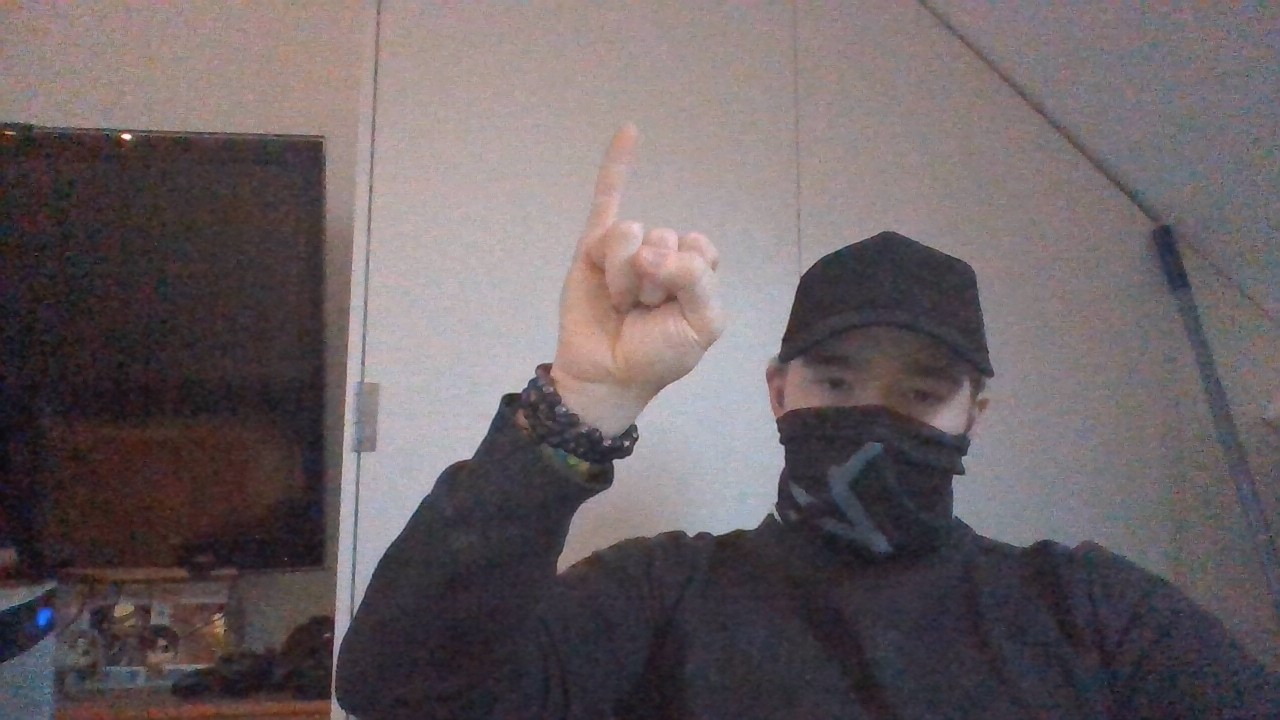I" Sign language: (552, 122, 733, 396)
